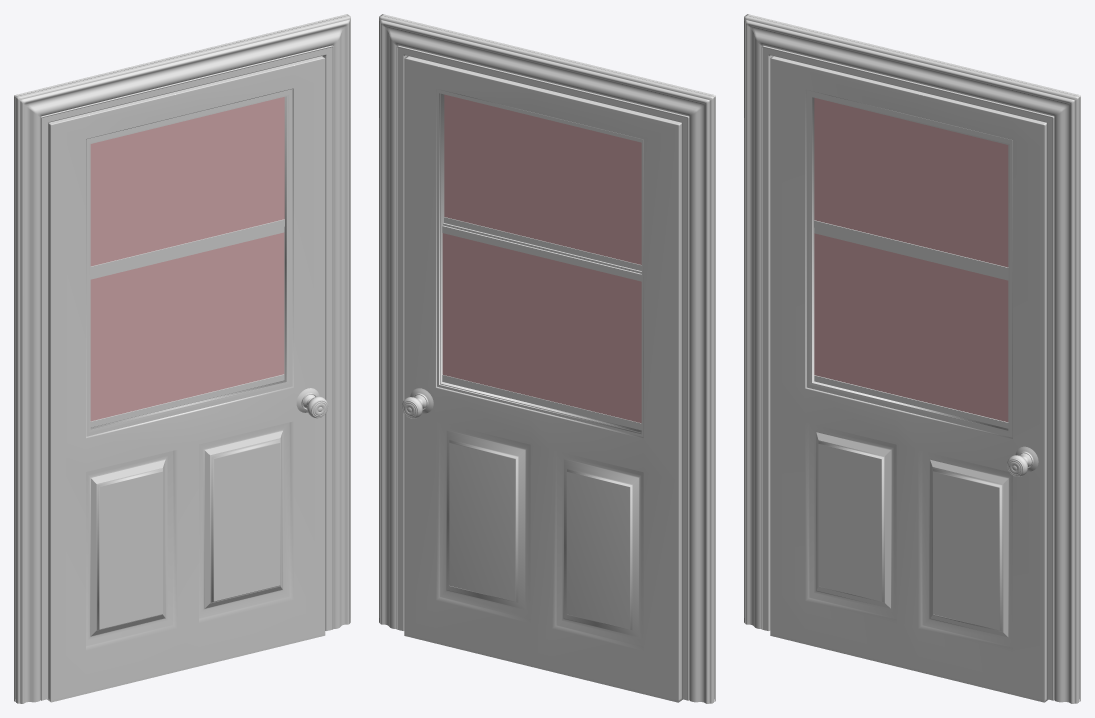
File: Door5.fbx
3 renders of one model, left to right at view 1: azimuth 30°, elevation 25°; view 2: azimuth 150°, elevation 25°; view 3: azimuth 330°, elevation 25°, orthographic.
Visible parts, largest first — view 1: Door_LOD0, ColonialCasing_LOD0, Slider, ColonialCasing_LOD0.001, Doorknob_LOD0.001; view 2: Door_LOD0, ColonialCasing_LOD0.001, Slider, ColonialCasing_LOD0, Doorknob_LOD0; view 3: Door_LOD0, ColonialCasing_LOD0, Slider, ColonialCasing_LOD0.001, Doorknob_LOD0.001.
Part boxes in pixels (x1,y1,x2,y2): Door_LOD0: (47,56,325,702); ColonialCasing_LOD0: (16,15,350,703); Slider: (90,228,284,427); ColonialCasing_LOD0.001: (14,14,348,701); Doorknob_LOD0.001: (296,388,328,418); Door_LOD0: (404,56,682,702); ColonialCasing_LOD0.001: (379,15,713,703); Slider: (442,223,641,430); ColonialCasing_LOD0: (381,14,715,701); Doorknob_LOD0: (401,388,433,418); Door_LOD0: (770,56,1048,702); ColonialCasing_LOD0: (744,15,1078,703); Slider: (814,228,1008,428); ColonialCasing_LOD0.001: (746,14,1080,701); Doorknob_LOD0.001: (1007,446,1038,476).
Size of what is drawn, in the model's own units: 250 by 437 by 47.68.
